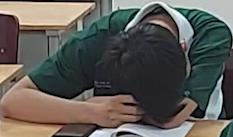Sleeping: (5, 3, 224, 125)
